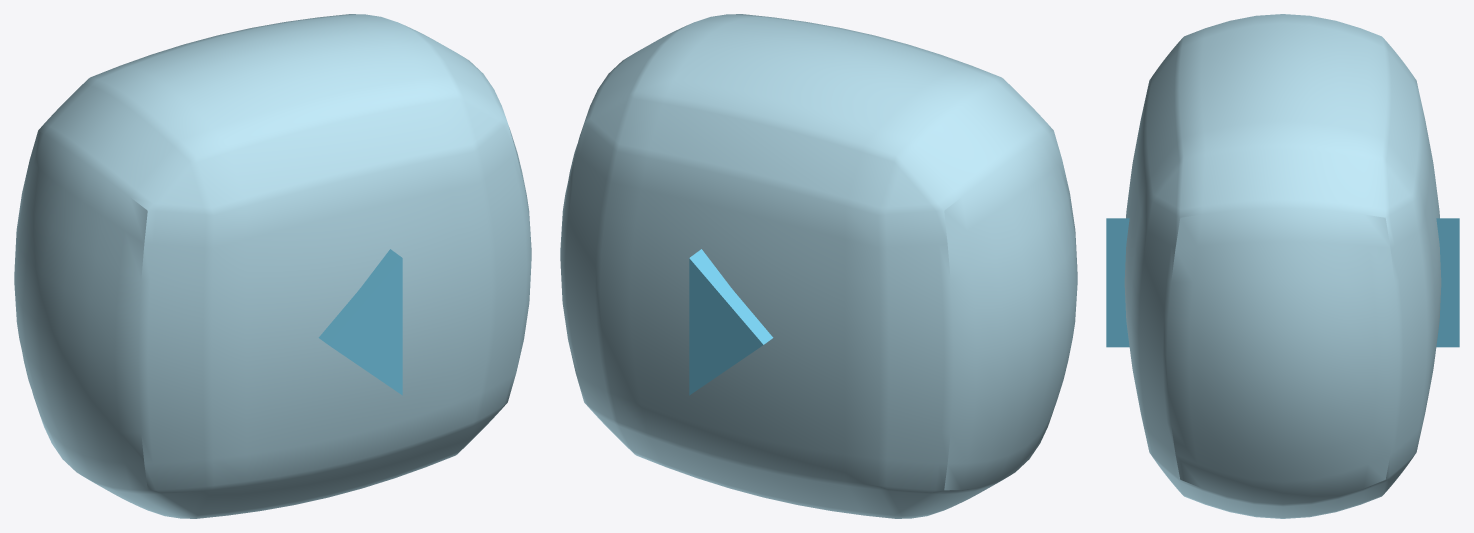
Rendered from play_button_animation_frame11.fbx.
The picture shows the model from 3 angles, left to right: view 1: azimuth 30°, elevation 25°; view 2: azimuth 150°, elevation 25°; view 3: azimuth 270°, elevation 25°; orthographic projection. The views are drawn at different scales.
Visible parts, largest first — view 1: Button, Triangle; view 2: Button, Triangle; view 3: Button, Triangle.
Boxes of the visible parts, <box> form: Button: <box>14,14,531,518</box>; Triangle: <box>318,249,402,395</box>; Button: <box>560,14,1077,518</box>; Triangle: <box>689,249,773,395</box>; Button: <box>1124,14,1441,518</box>; Triangle: <box>1106,218,1459,347</box>.
Size of the model in its own units: 353 by 311 by 245.
